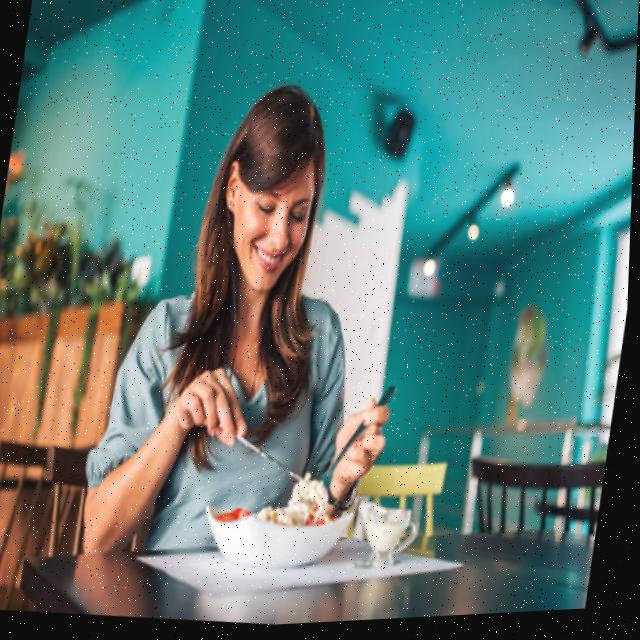eating-person: (68, 49, 490, 636)
